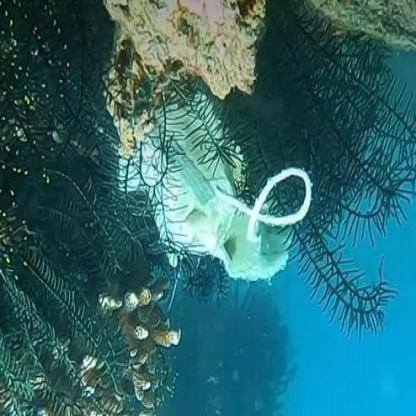plastic: (75, 128, 322, 308)
